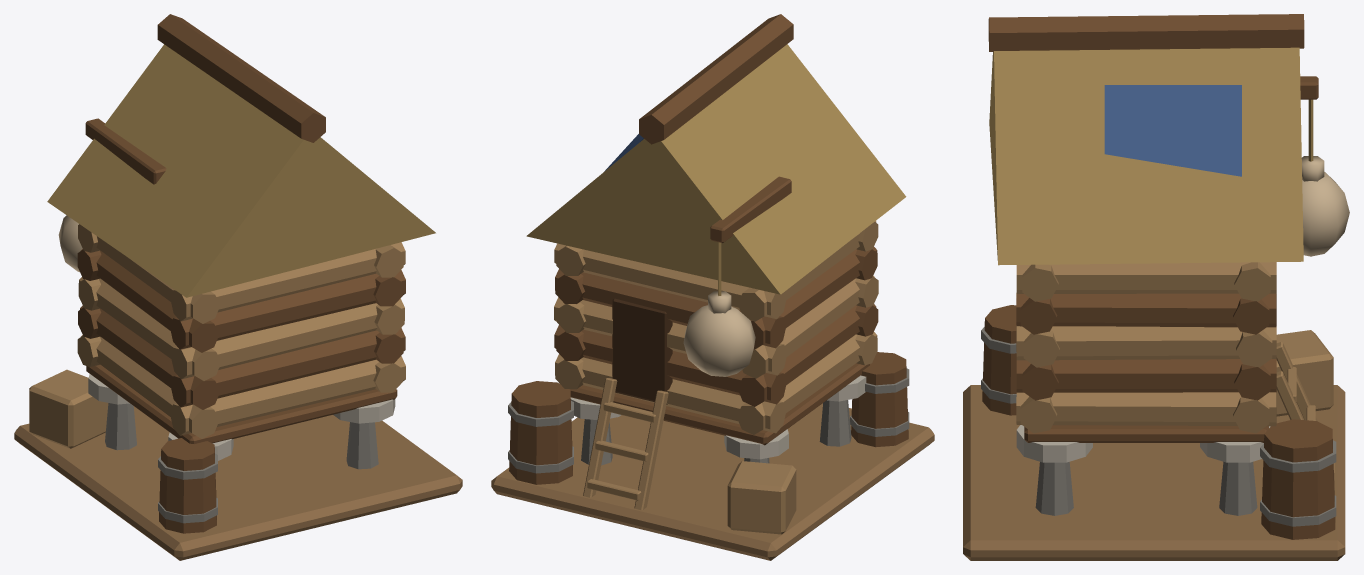
The model's file is storage_hut_l2.fbx.
The picture shows the model from 3 angles, left to right: view 1: azimuth 30°, elevation 25°; view 2: azimuth 150°, elevation 25°; view 3: azimuth 270°, elevation 25°; orthographic projection. The views are drawn at different scales.
Visible parts, largest first — view 1: Building; view 2: Building; view 3: Building.
Boxes of the visible parts, <box> form: Building: <box>14,14,462,560</box>; Building: <box>491,14,934,560</box>; Building: <box>963,14,1349,560</box>.
Bounding box in the file's own units: 1 × 1.01 × 1.35.
